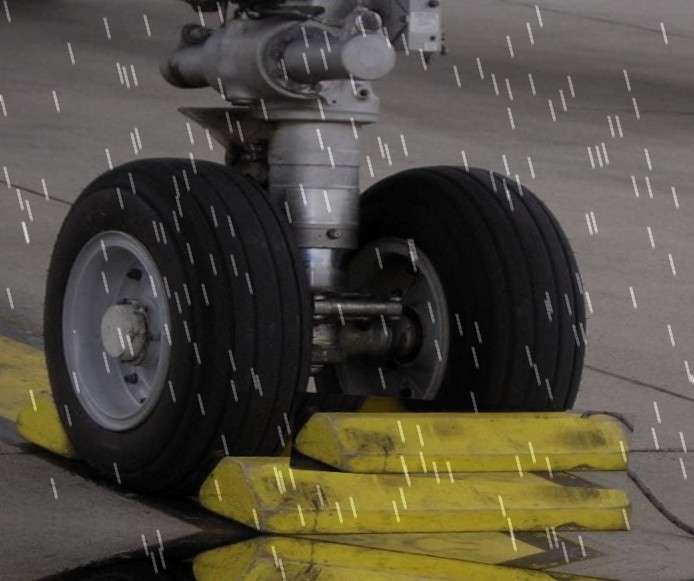chock: (191, 423, 639, 565), (289, 386, 638, 497), (183, 522, 624, 581)
wheel: (25, 146, 321, 508), (313, 154, 614, 474)
